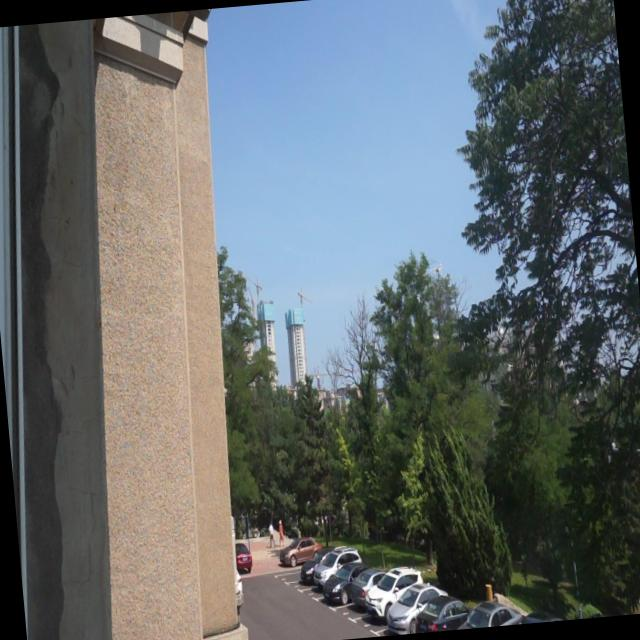drone: (430, 258, 446, 280)
